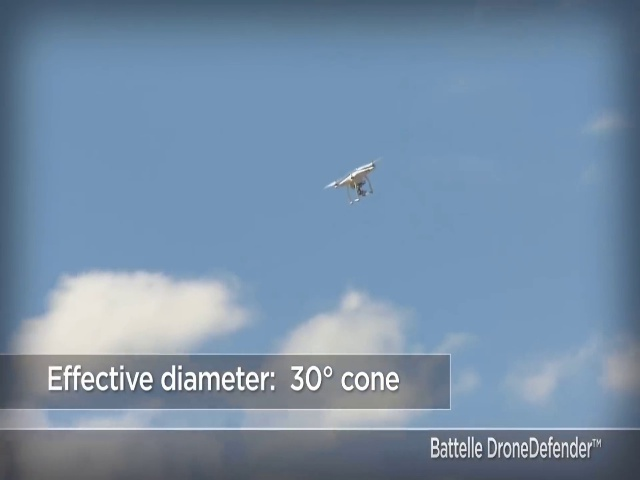drone: (320, 153, 389, 208)
